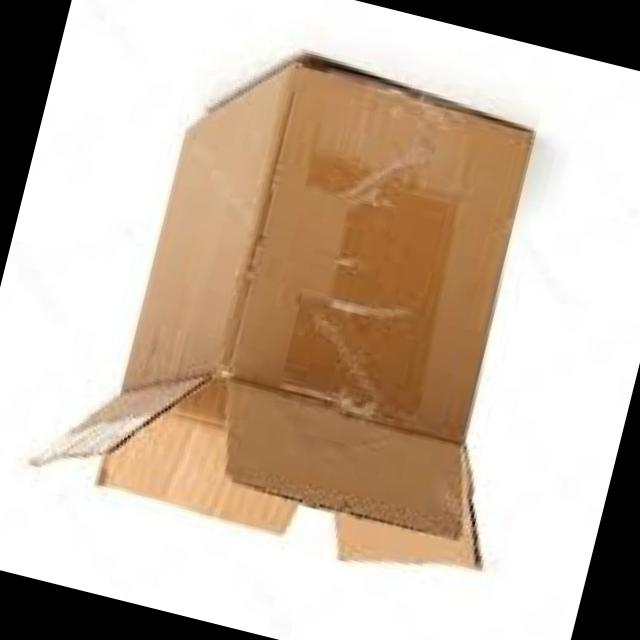cardboard paper: (36, 63, 528, 568)
